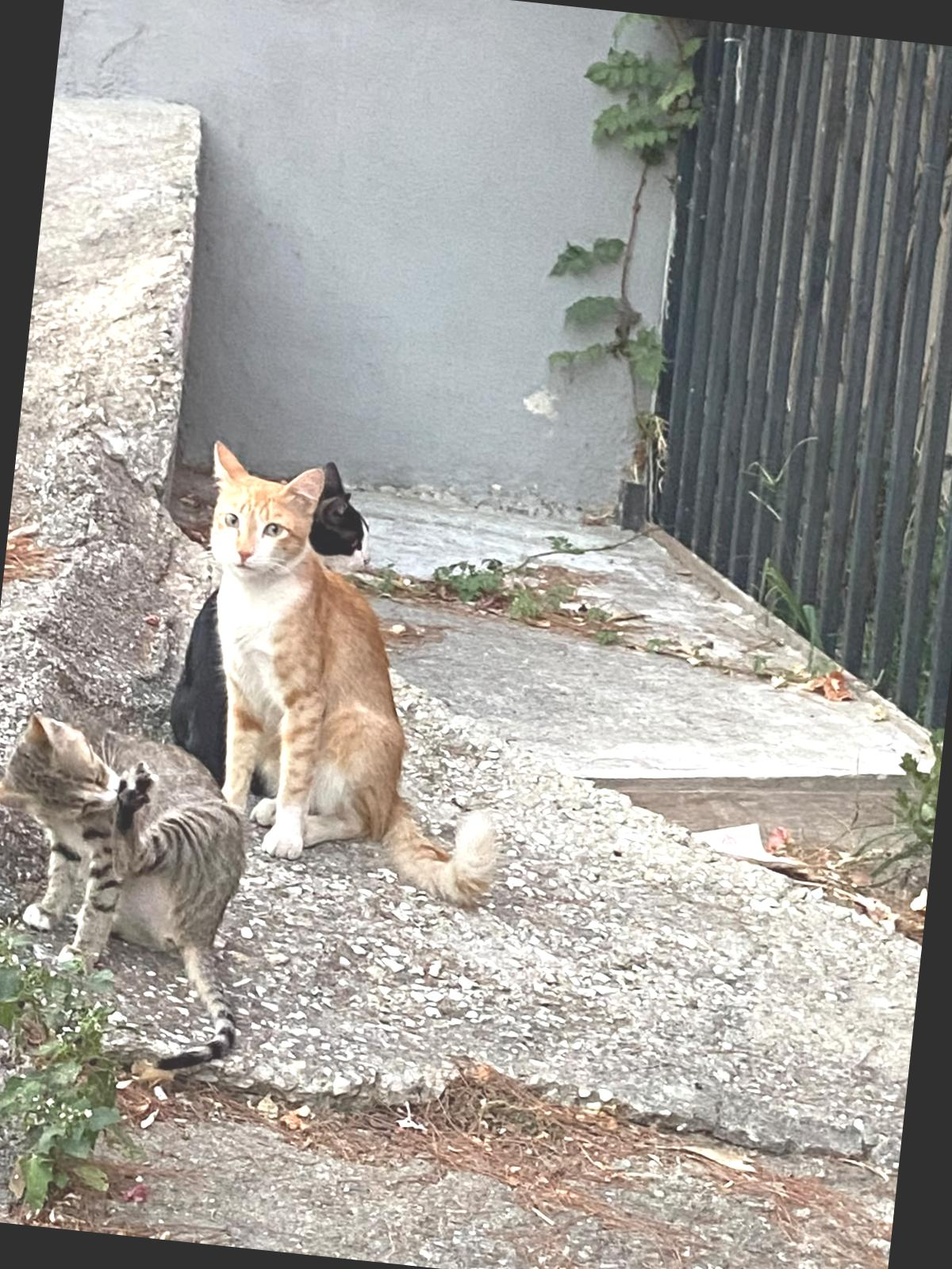macka: (165, 440, 542, 913), (0, 706, 268, 1074), (163, 447, 382, 806)
